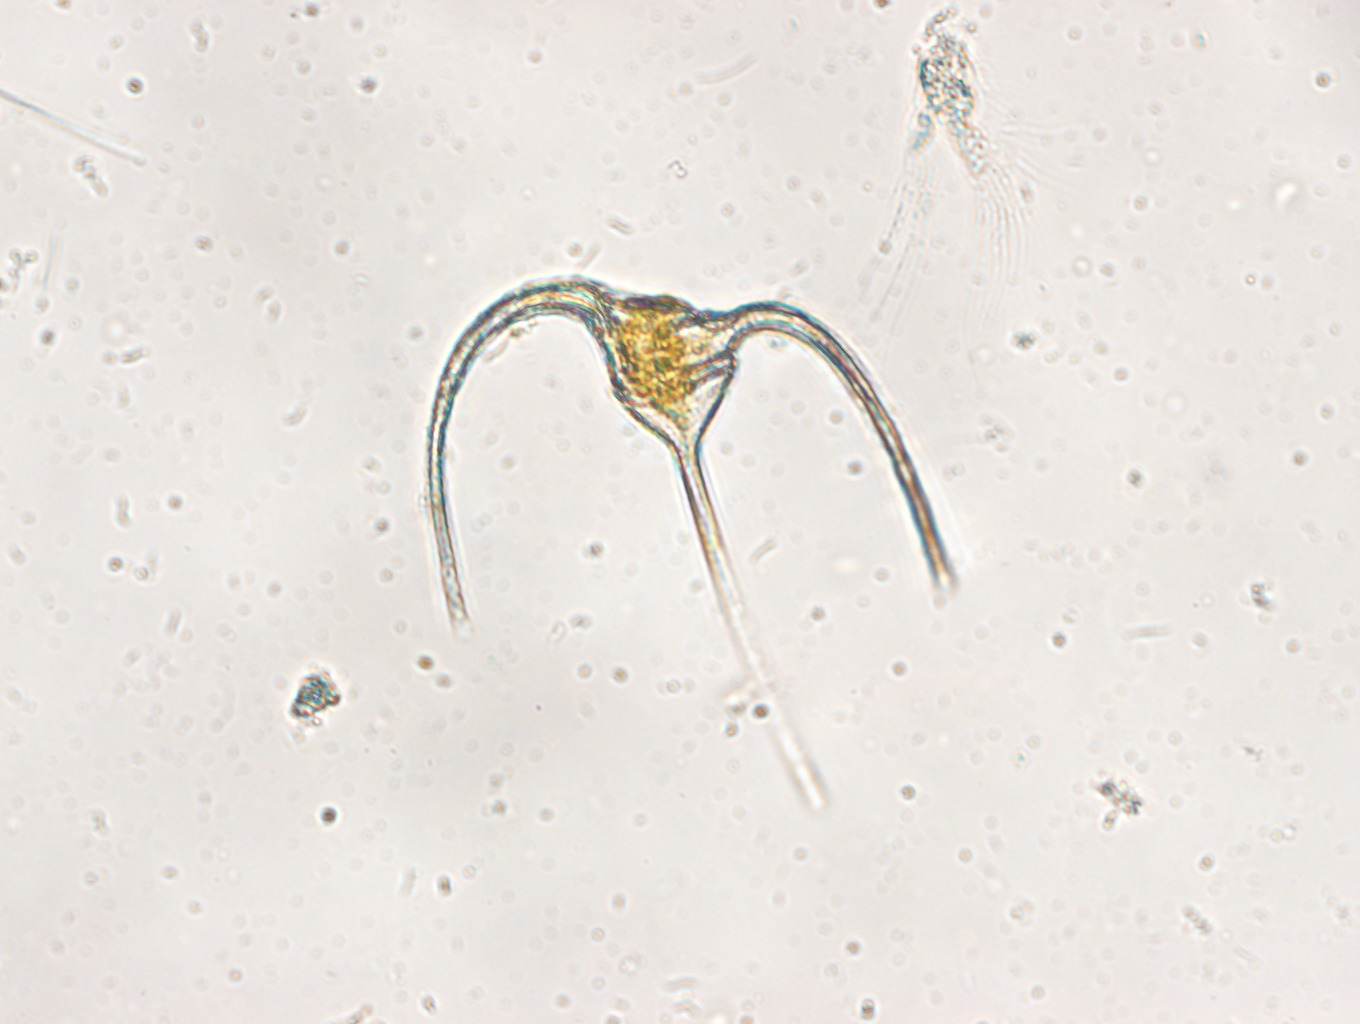ceratium trichoceros: (424, 261, 959, 817)
